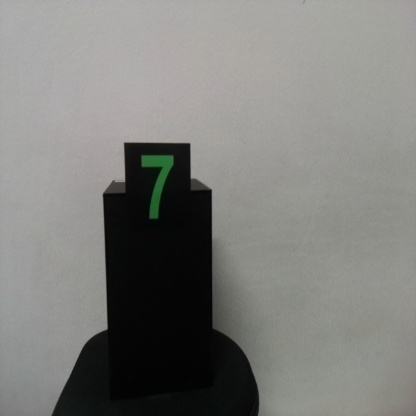id_7: (124, 144, 191, 241)
